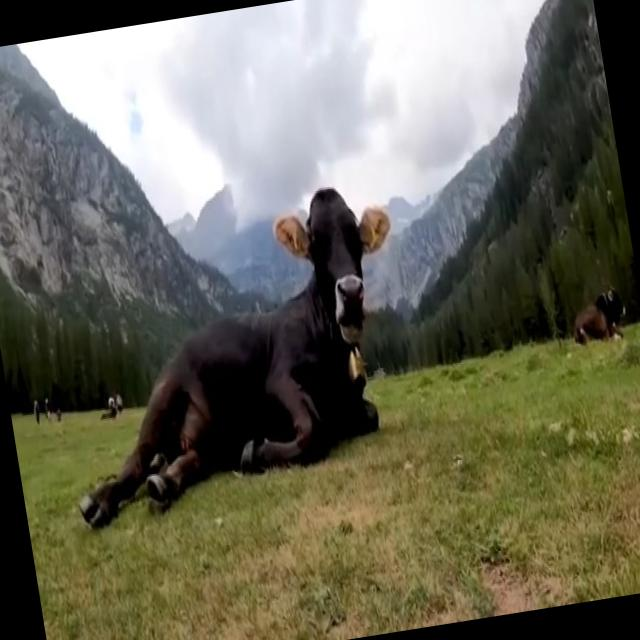cow: (82, 188, 389, 527)
